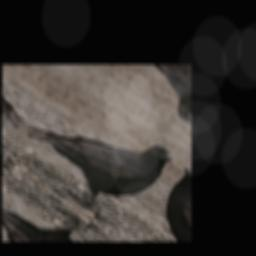Crow: (8, 79, 177, 234)
